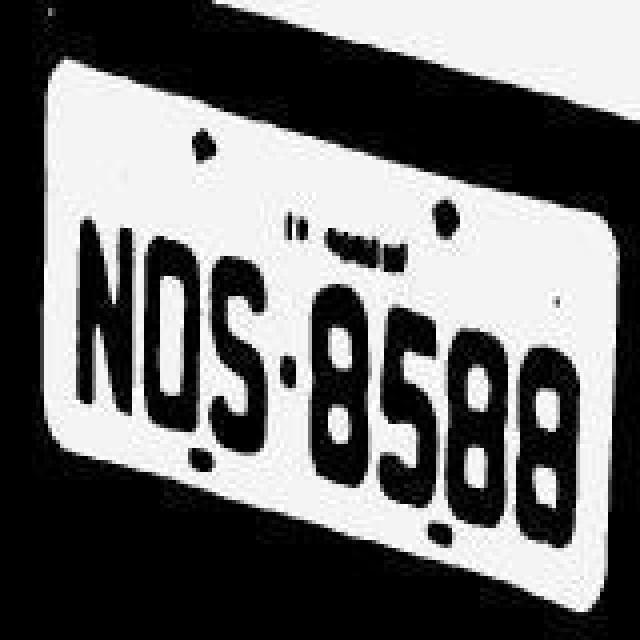5: (370, 270, 446, 514)
8: (296, 276, 376, 508), (510, 326, 586, 570), (446, 290, 514, 534)
N: (60, 194, 140, 438)
O: (138, 230, 206, 442)
S: (202, 250, 278, 454)
